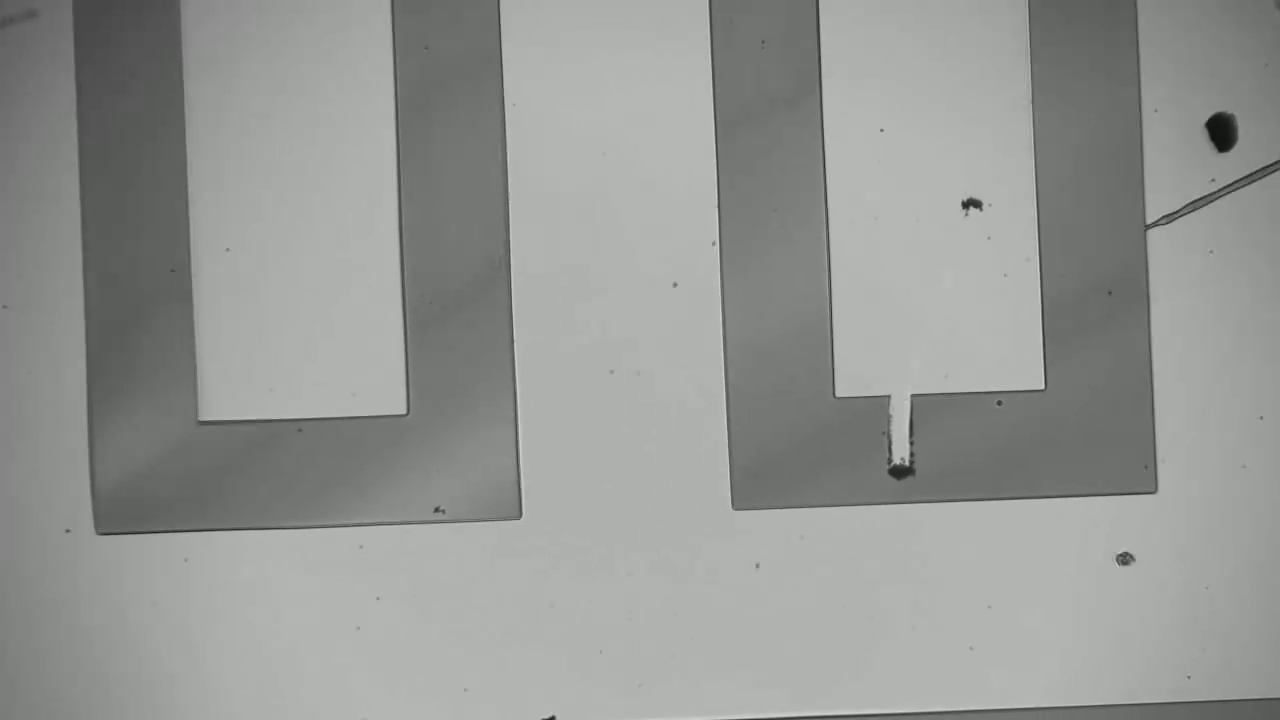Short_circuit: (873, 371, 948, 530)
